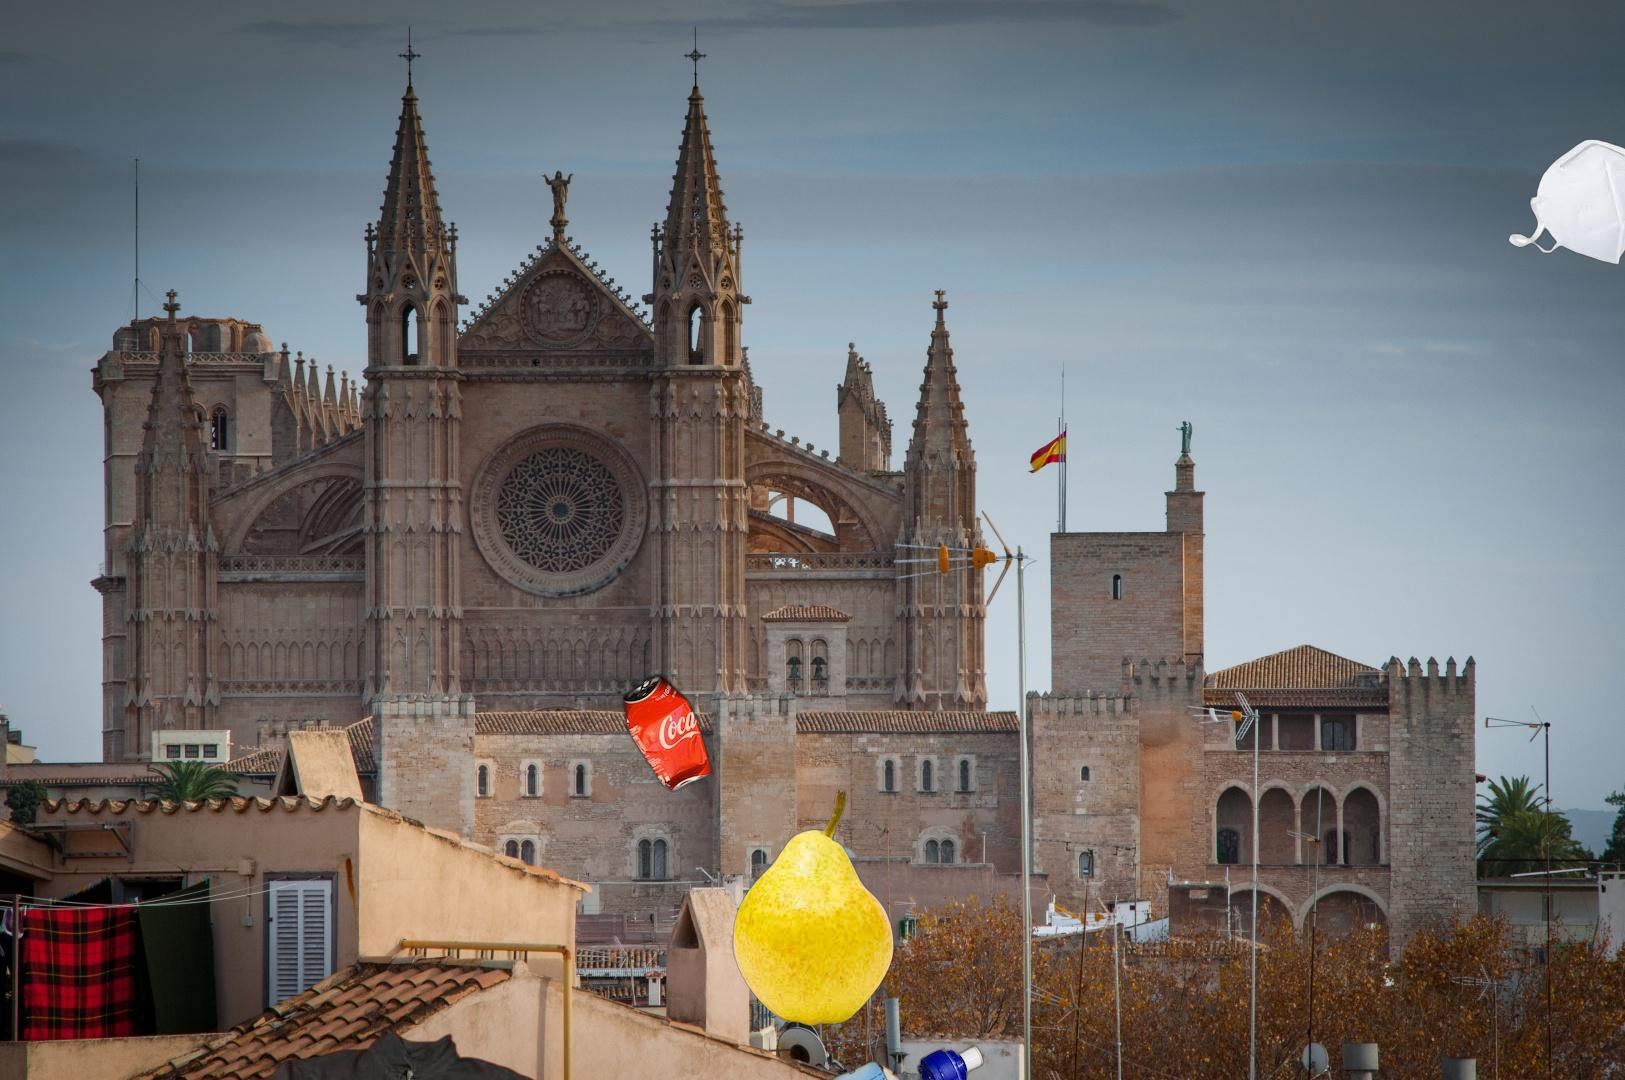biological: (731, 786, 897, 1029)
clothes: (212, 1027, 614, 1080)
metal-cans: (618, 395, 929, 797), (1586, 319, 1625, 933)
plastic-bottles: (682, 1041, 986, 1080)
trash: (1506, 136, 1625, 268)
